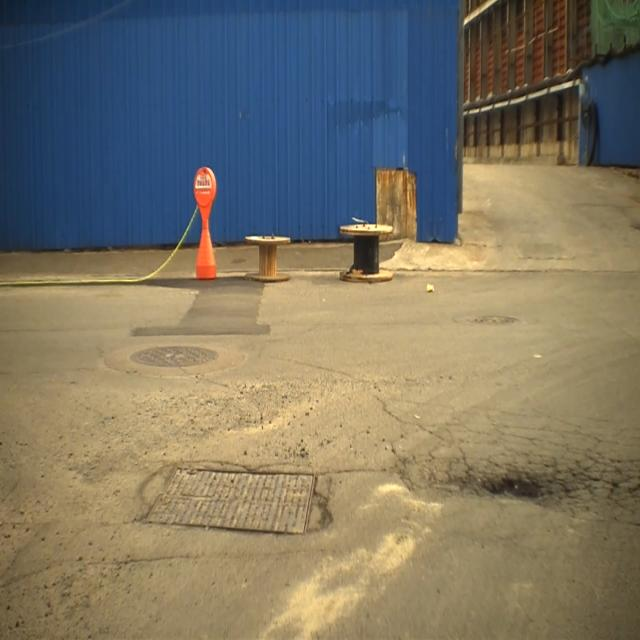Pothole: (390, 434, 640, 524)
